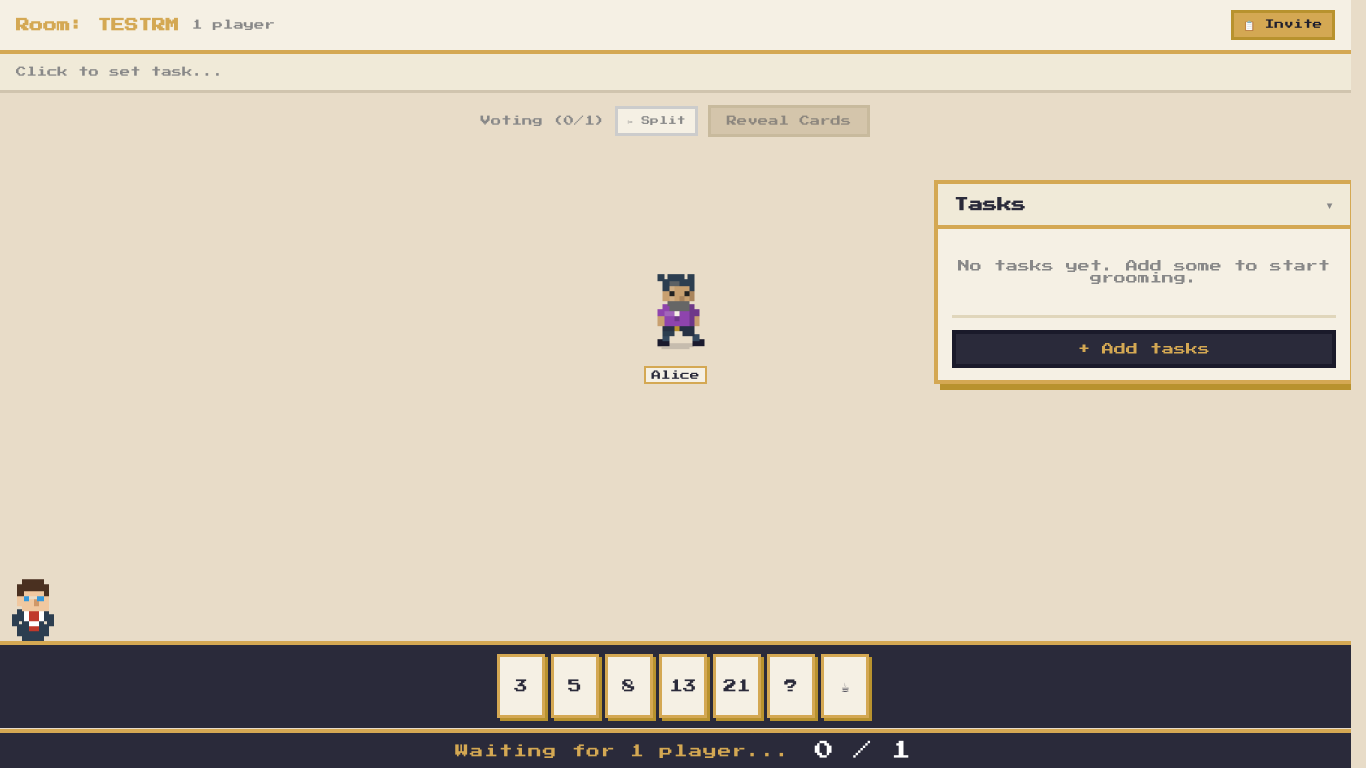
Test: Room — rendering & controls › Y6: clipboard success flips the button to "✓ Copied"
The width and height of the screenshot is (1366, 768).
Click the button "📋 Invite" at (1283, 25), box x1=1231 y1=10 x2=1335 y2=40
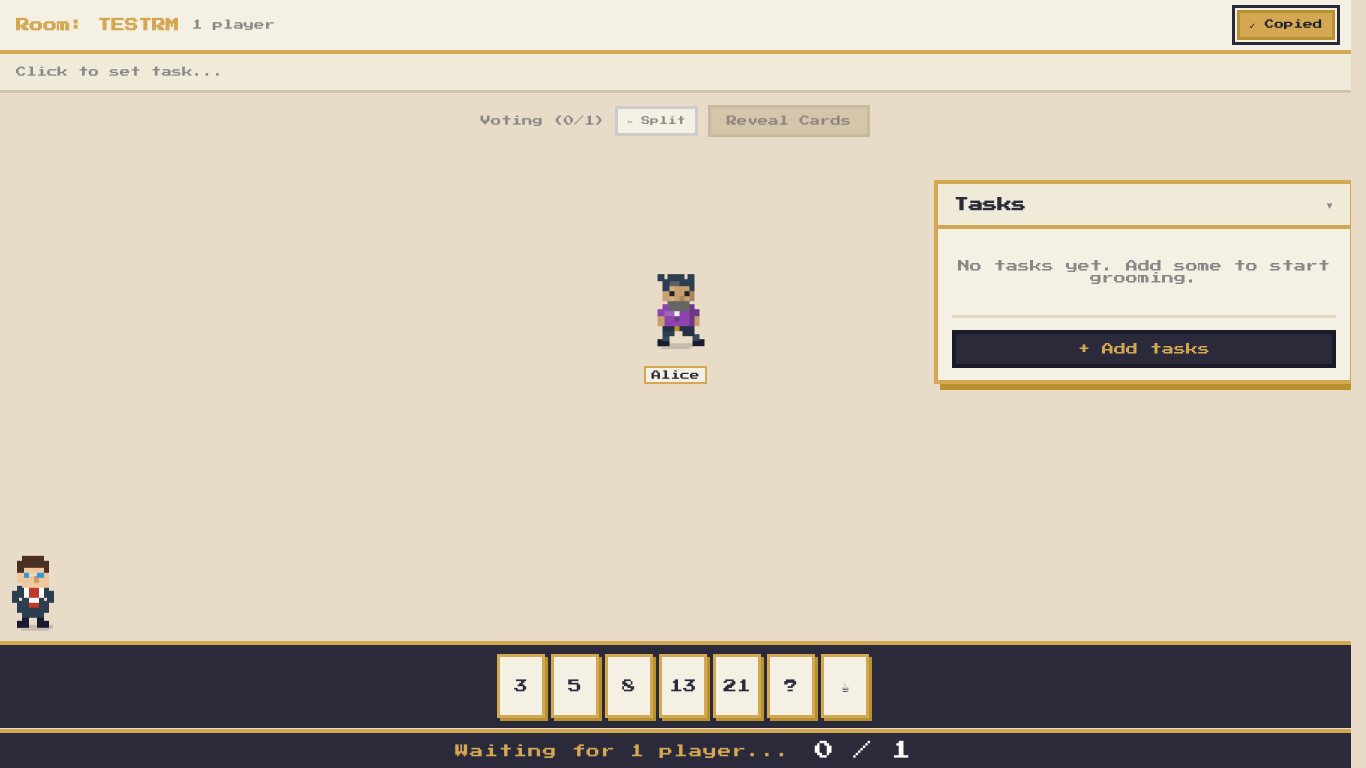
Check: the button "✓ Copied" is shown, box x1=1237 y1=10 x2=1335 y2=40
